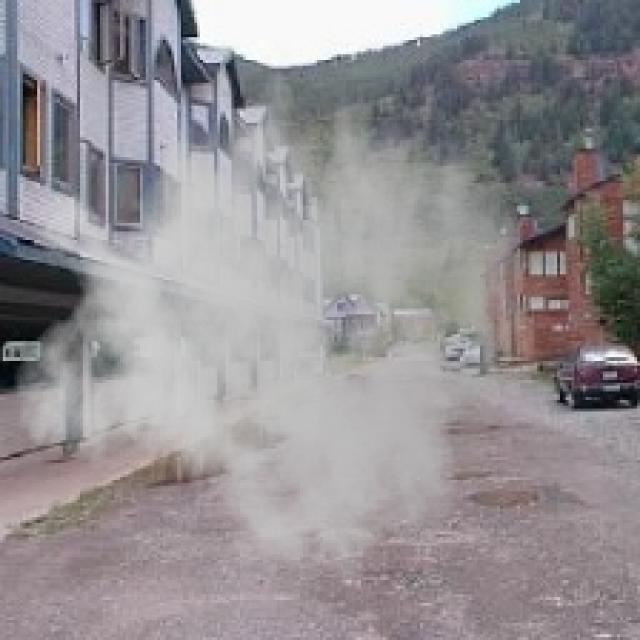Smoke: (11, 40, 528, 600)
